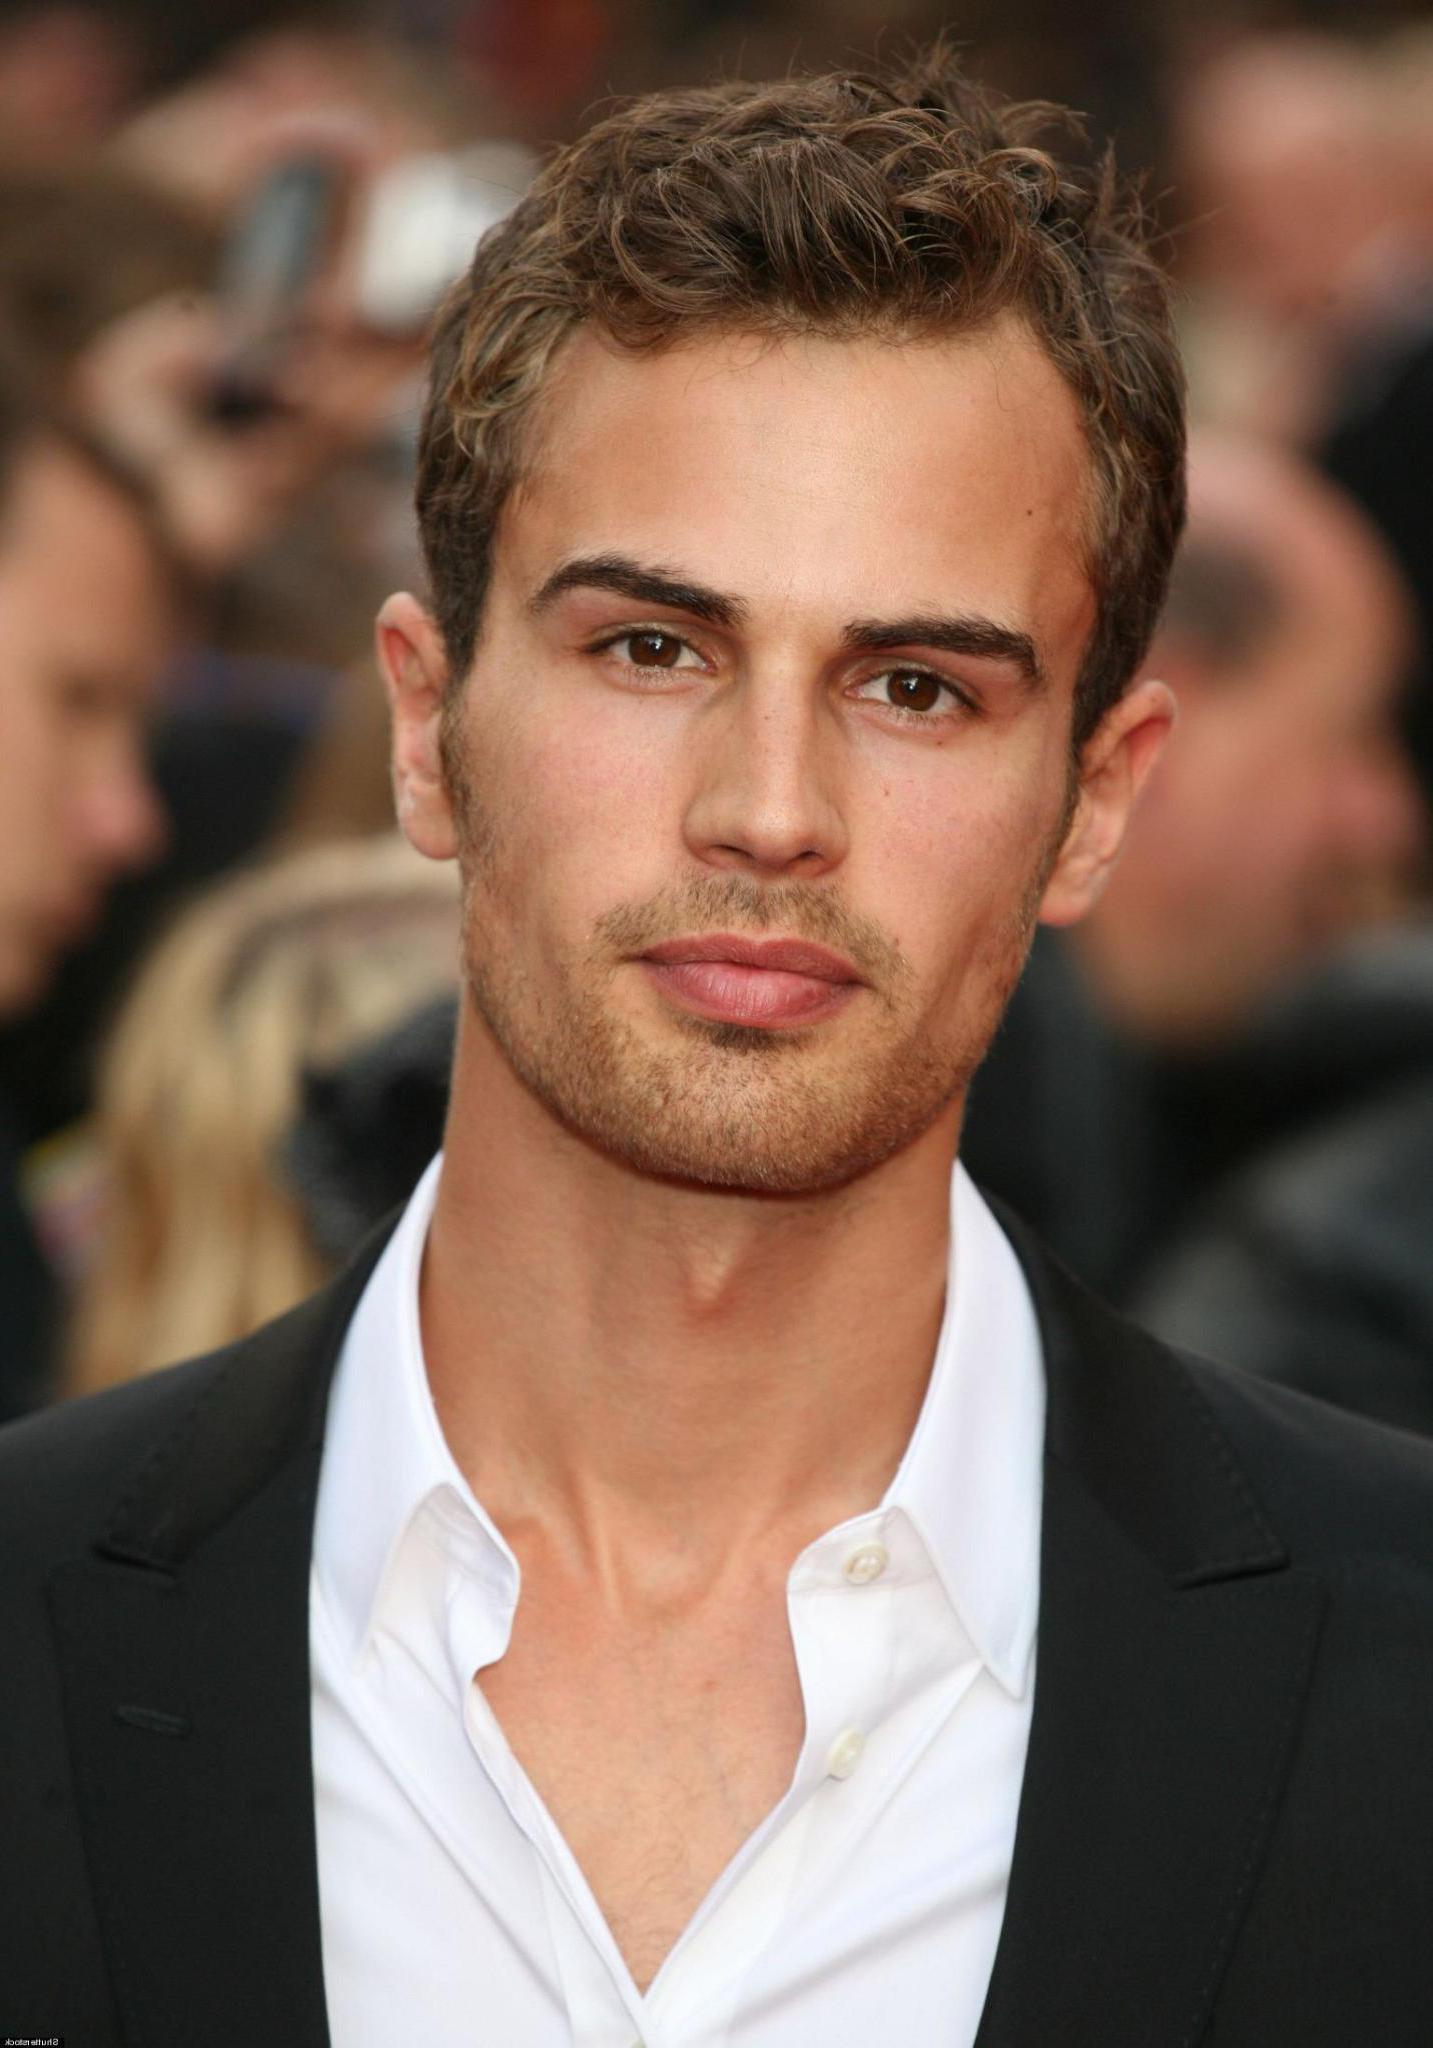Sober: (457, 282, 1056, 1150)
